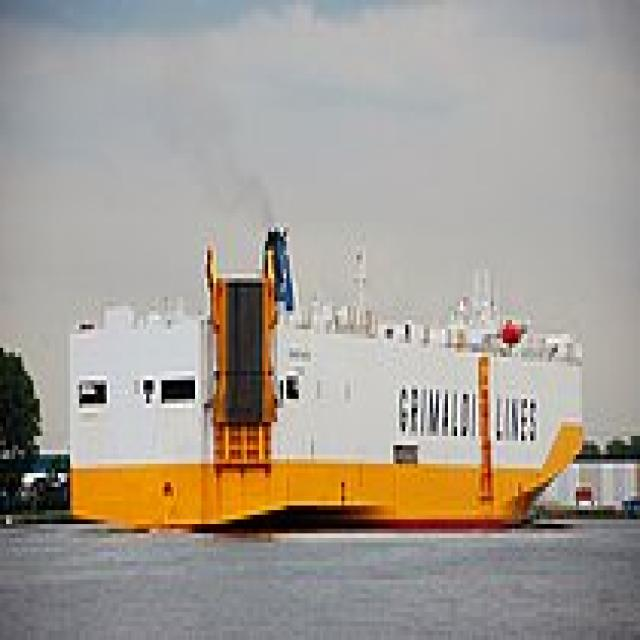Carrier: (61, 213, 582, 524)
